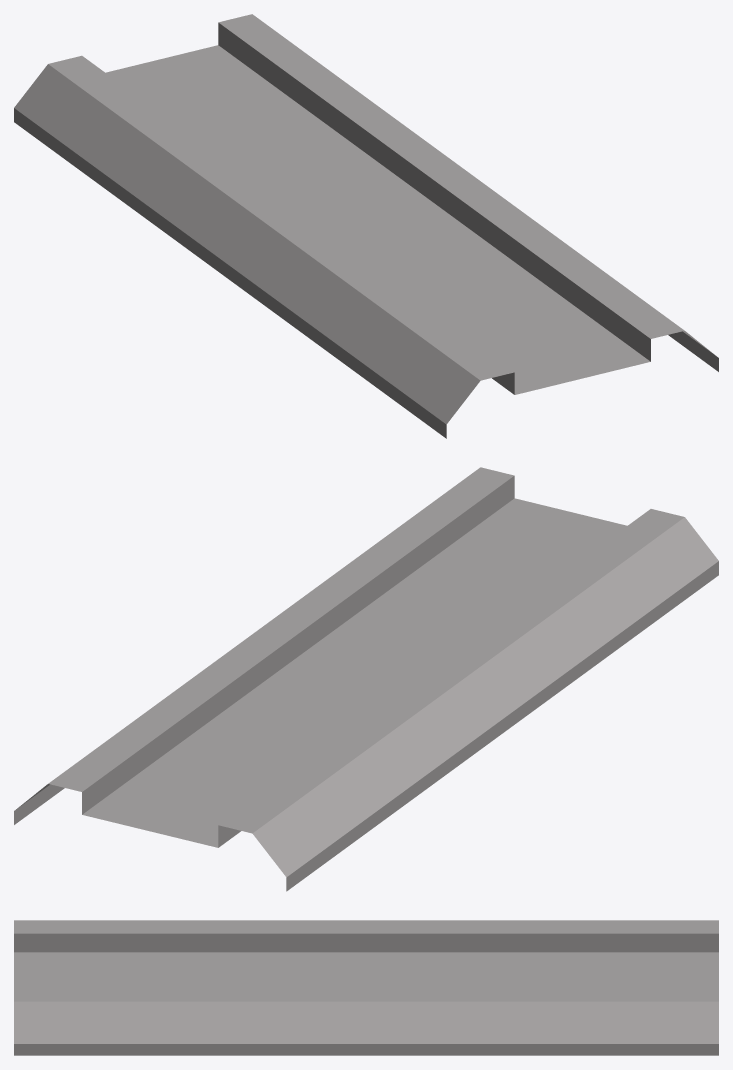
File: FloorRail1M.fbx
3 renders of one model, top to bottom at view 1: azimuth 30°, elevation 25°; view 2: azimuth 150°, elevation 25°; view 3: azimuth 270°, elevation 25°, orthographic. The views are drawn at different scales.
Parts seen in each view (by area): view 1: FloorRail1M; view 2: FloorRail1M; view 3: FloorRail1M.
Part boxes in pixels (<box>): FloorRail1M: <box>14,14,718,438</box>; FloorRail1M: <box>14,467,718,891</box>; FloorRail1M: <box>14,920,718,1055</box>.
Bounding box in the file's own units: 40.01 × 7.01 × 110.
